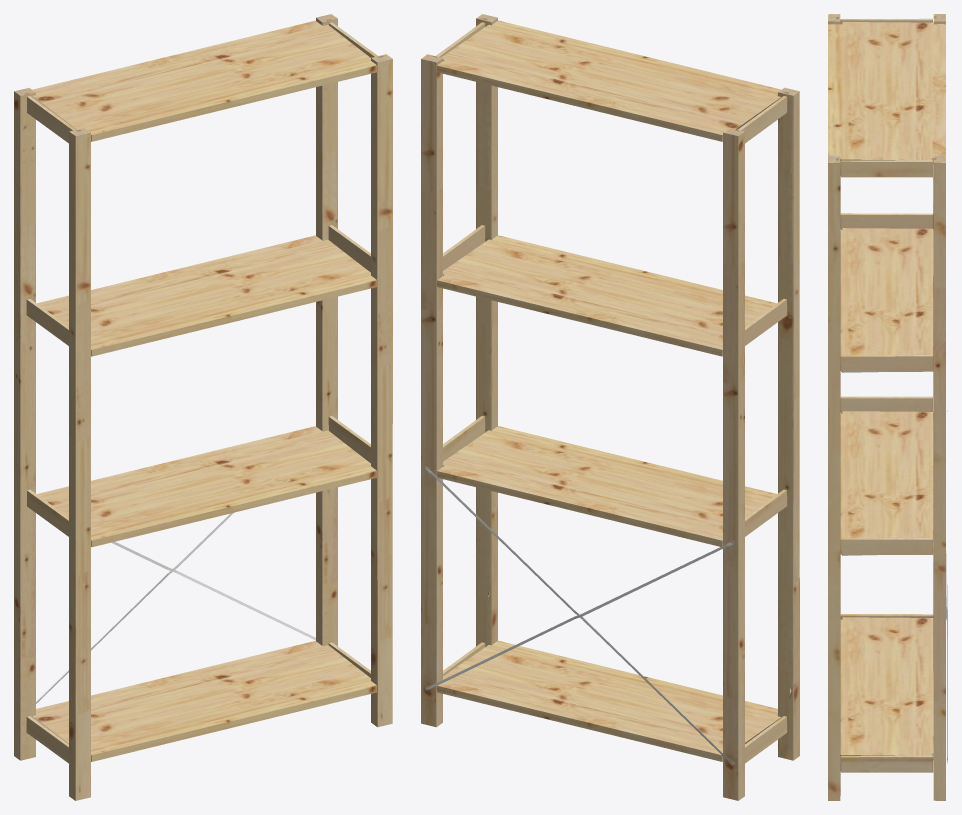
File: 20 - IVAR 1 sectionshelves - pine 89x30x179 cm.glb
The picture shows the model from 3 angles, left to right: view 1: azimuth 30°, elevation 25°; view 2: azimuth 150°, elevation 25°; view 3: azimuth 270°, elevation 25°; orthographic projection. The views are drawn at different scales.
Visible parts, largest first — view 1: Mesh_0; view 2: Mesh_0; view 3: Mesh_0.
Boxes of the visible parts, box(x1,y1,x2,y2) form: Mesh_0: box(14, 14, 392, 800); Mesh_0: box(421, 14, 799, 800); Mesh_0: box(828, 14, 947, 800).
Size of the model in its own units: 0.8939 by 1.79 by 0.3047.
Materials: 1 (1 with a texture image).
